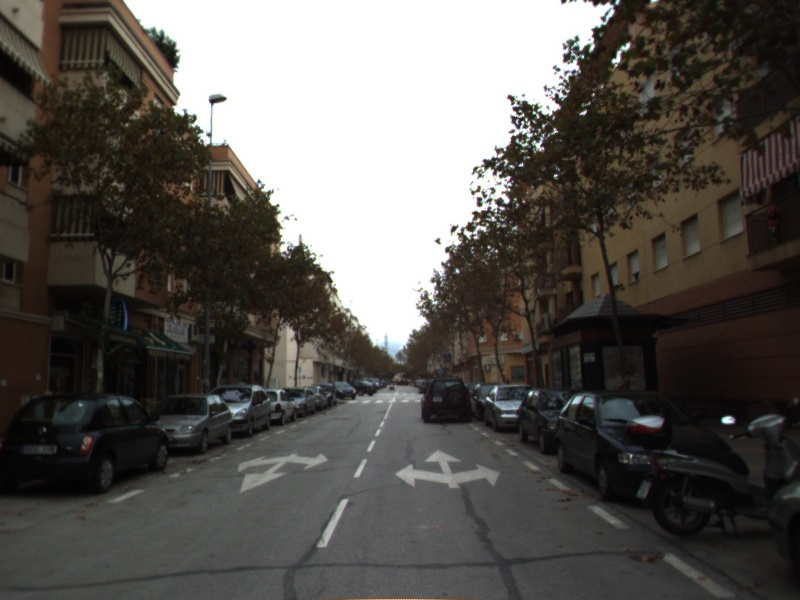STRAIGHT_LEFT_RIGHT: (393, 448, 503, 490)
